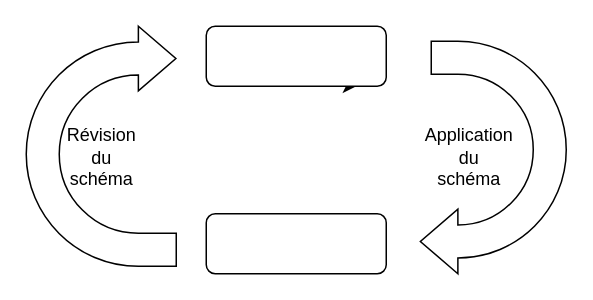
This 593x300 diagram has some shape labels left out. The shapes that lost their labels are listed below. From the top down, each one's centre as x and y in pixels, then its label:
(295,55): Schéma d'annotation
(295,243): Annotation de documents
